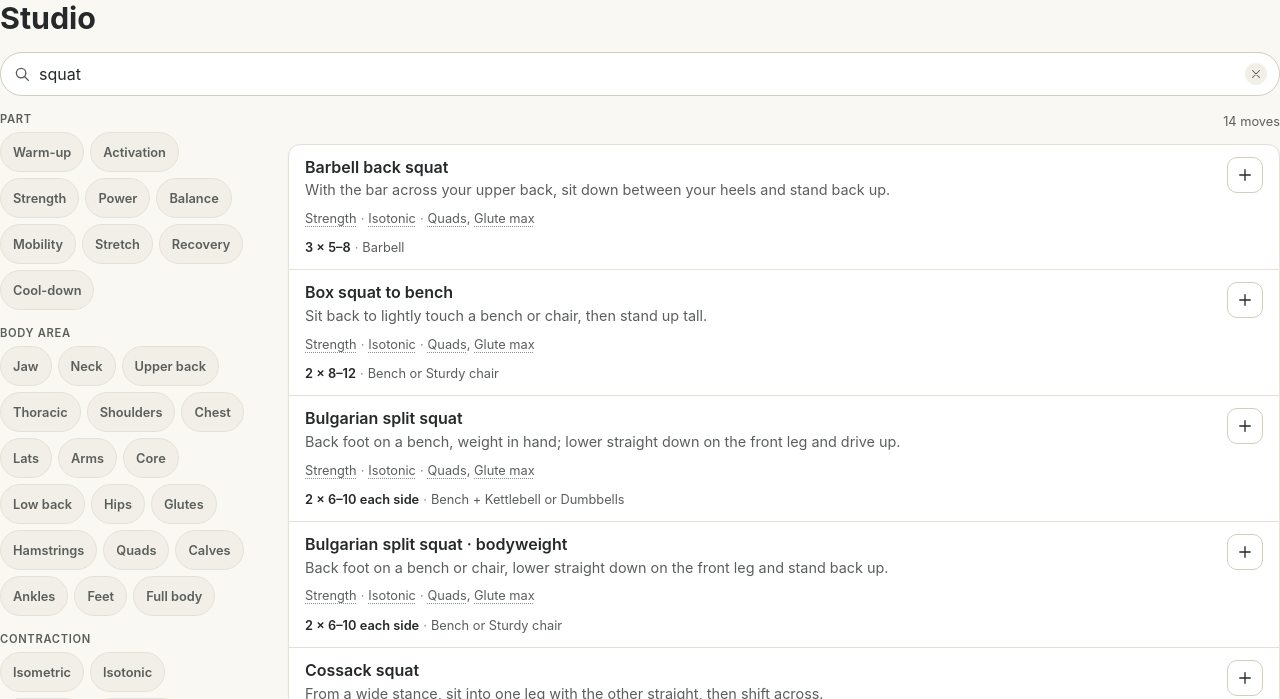
Scenario: typing filters, live › the field's ✕ empties it and keeps the focus
The image size is (1280, 699).
Click the button named "Clear search". click: (1256, 74)
box: [1245, 64, 1267, 86]
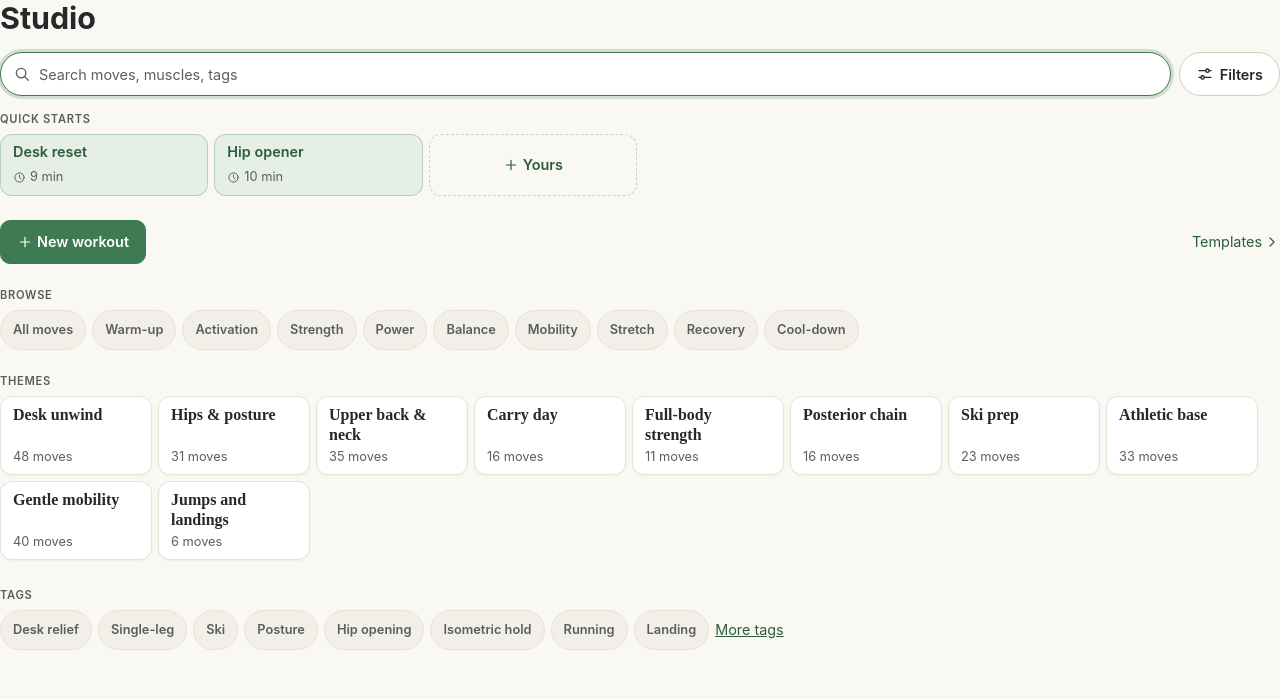
Expected: the search field with placeholder "Search moves, muscles, tags" is empty, [39, 54, 1158, 94]
